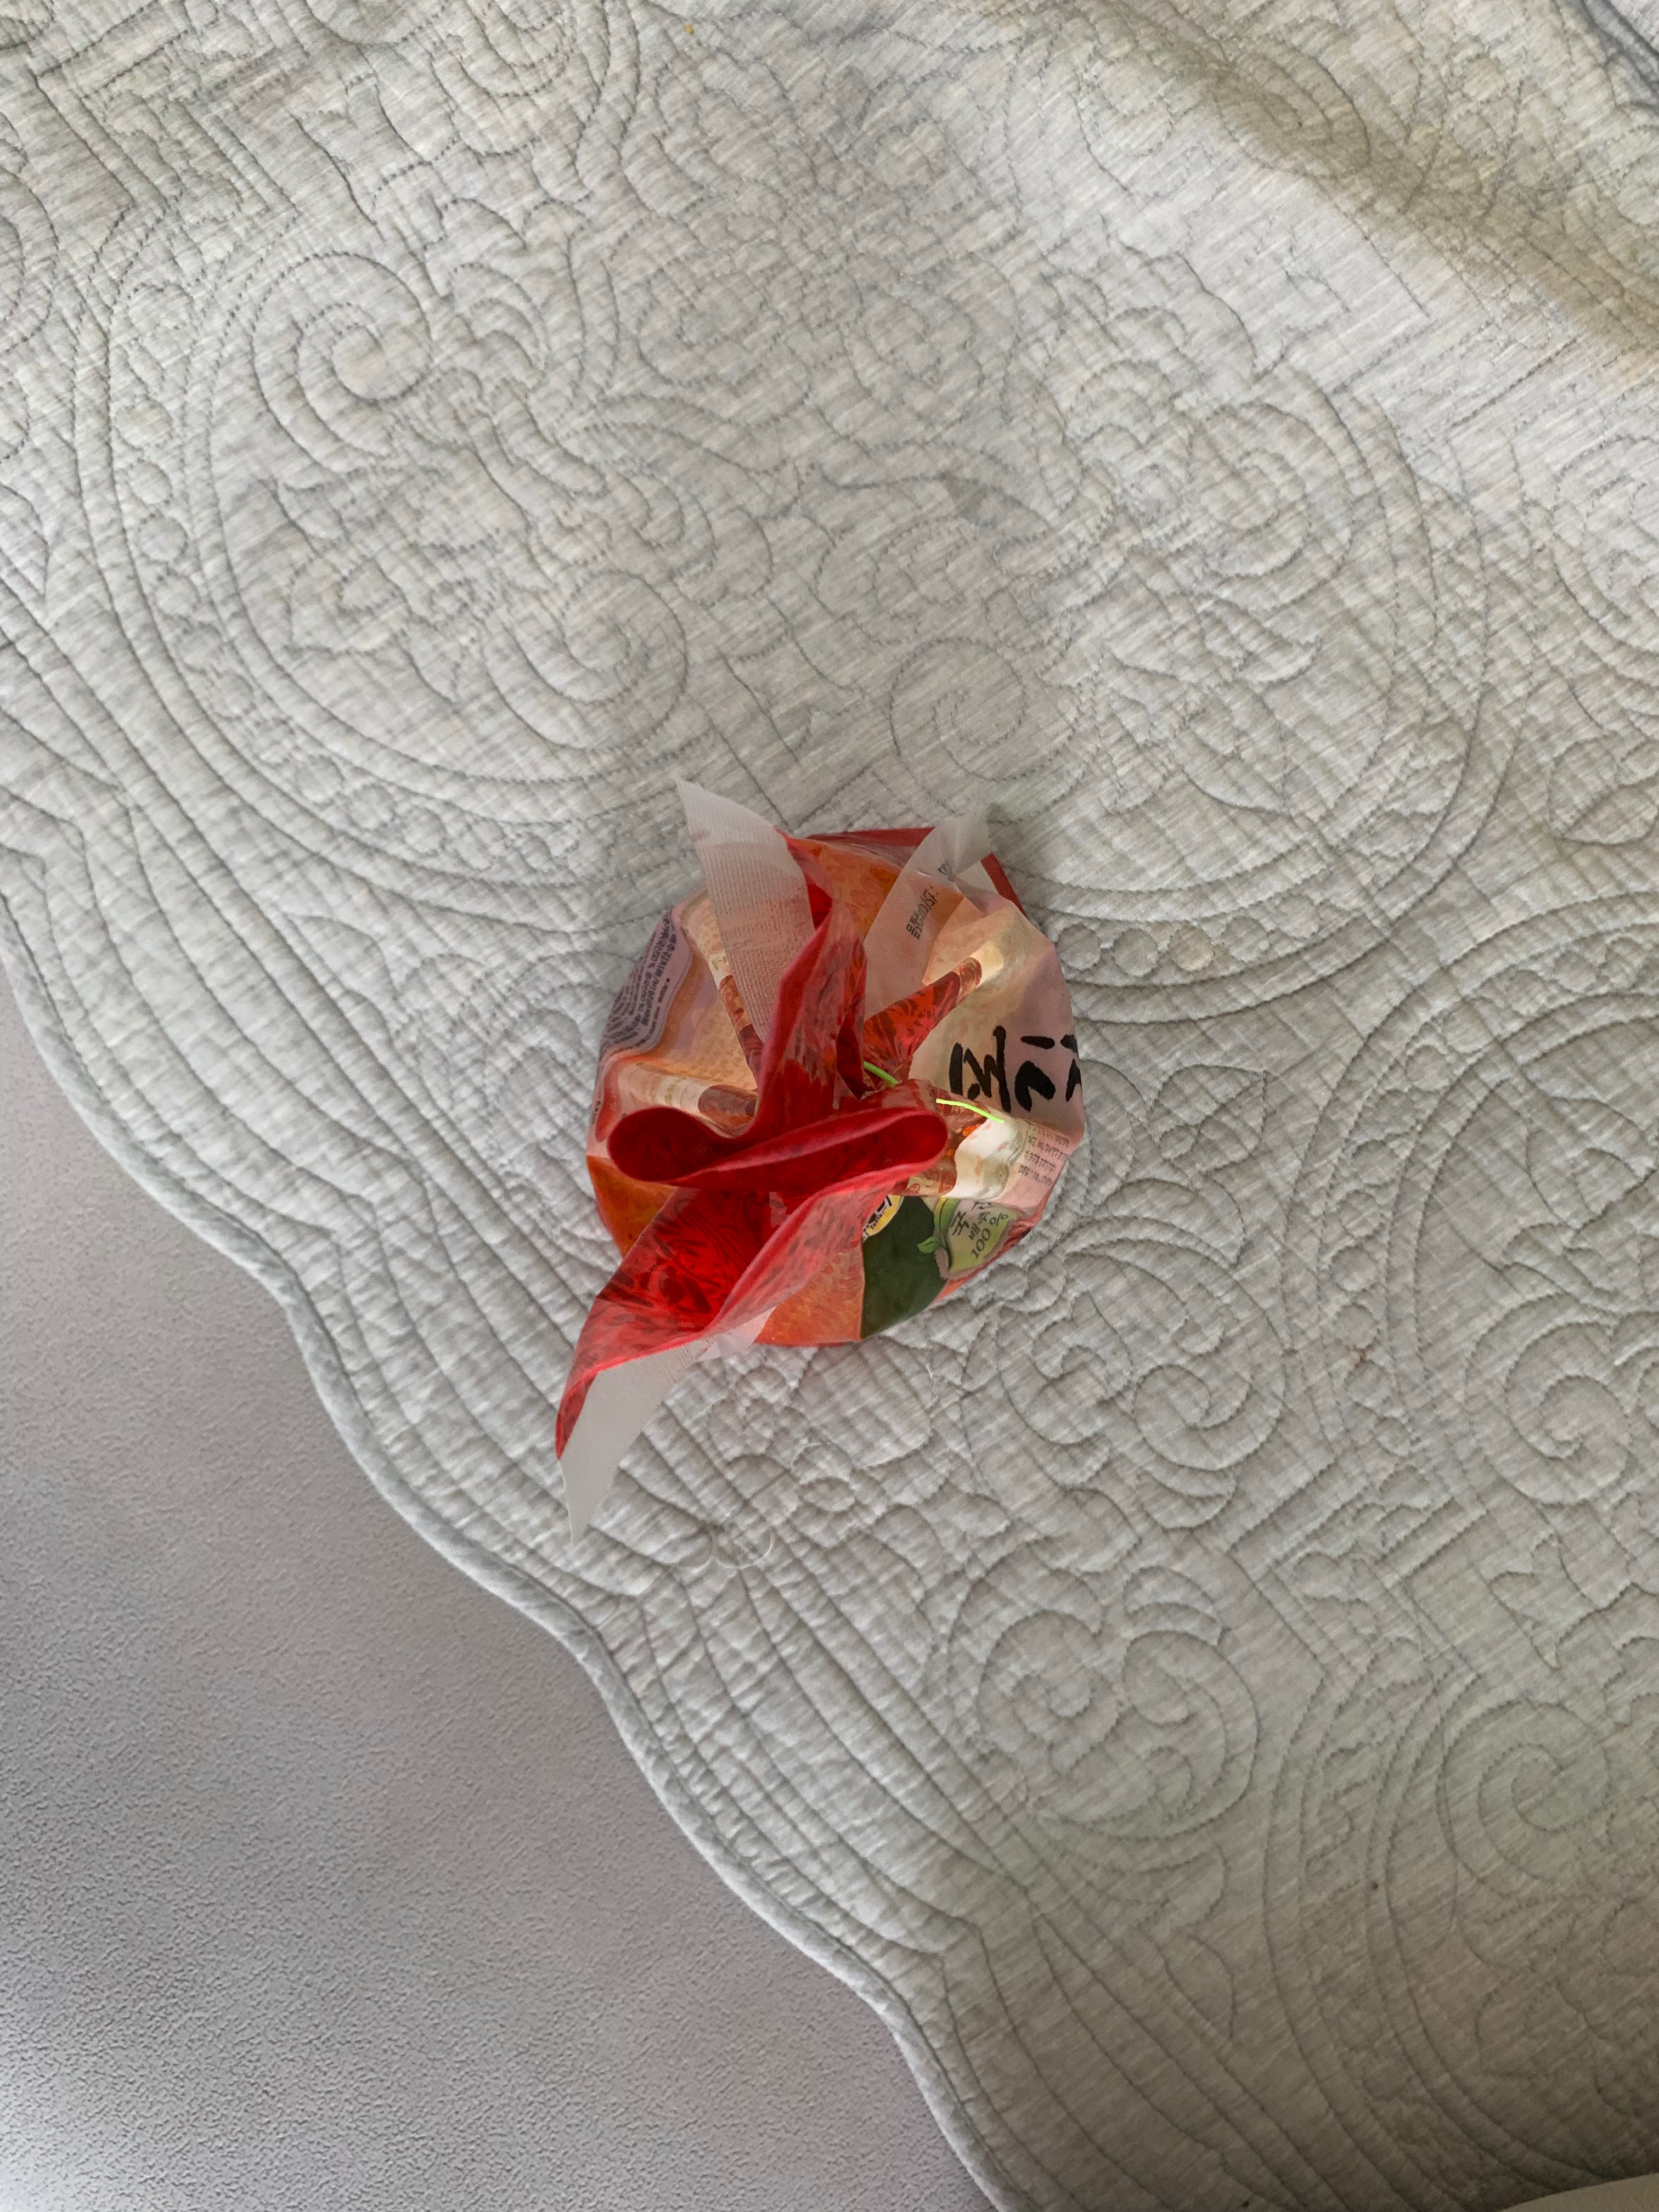kimchi: (596, 829, 1091, 1348)
